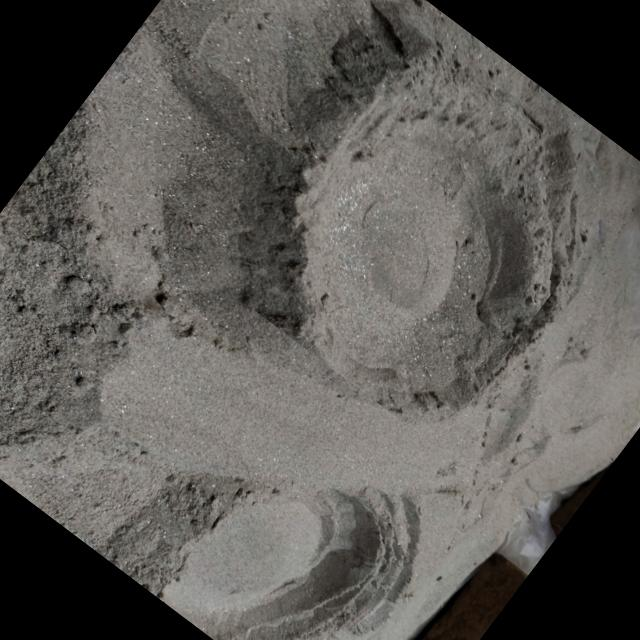C20: (306, 96, 551, 402), (163, 483, 409, 640)
